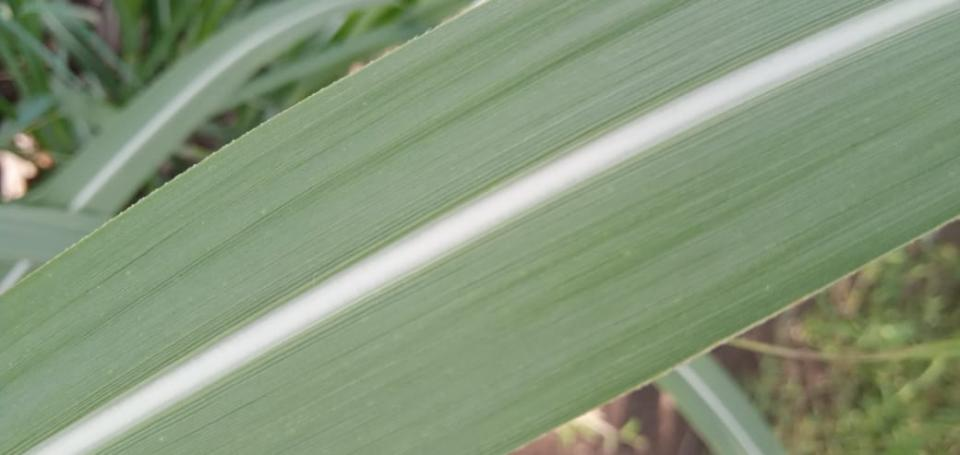Healthy: (0, 0, 888, 454), (98, 5, 959, 454)
